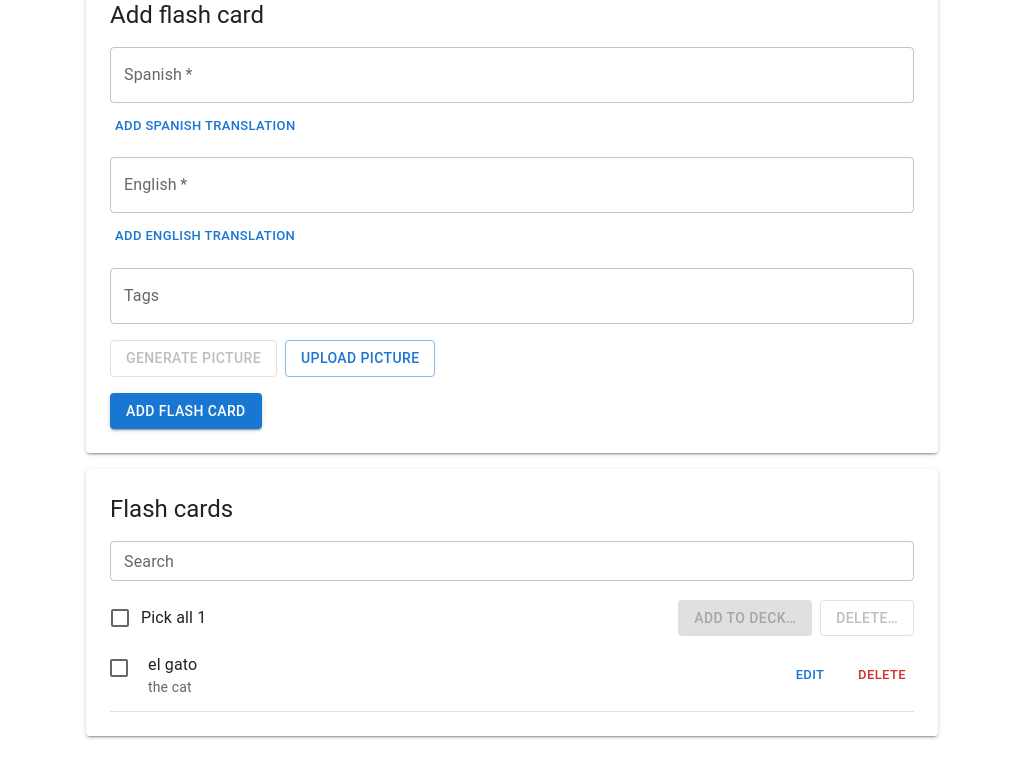
Test: deleting a card › says so when there are no cards left
(page scrolled)
Expected: the text "el gato" is shown, [148,655,197,674]
Click the button named "Delete \"el gato\"": (882, 675) [850,660,914,690]
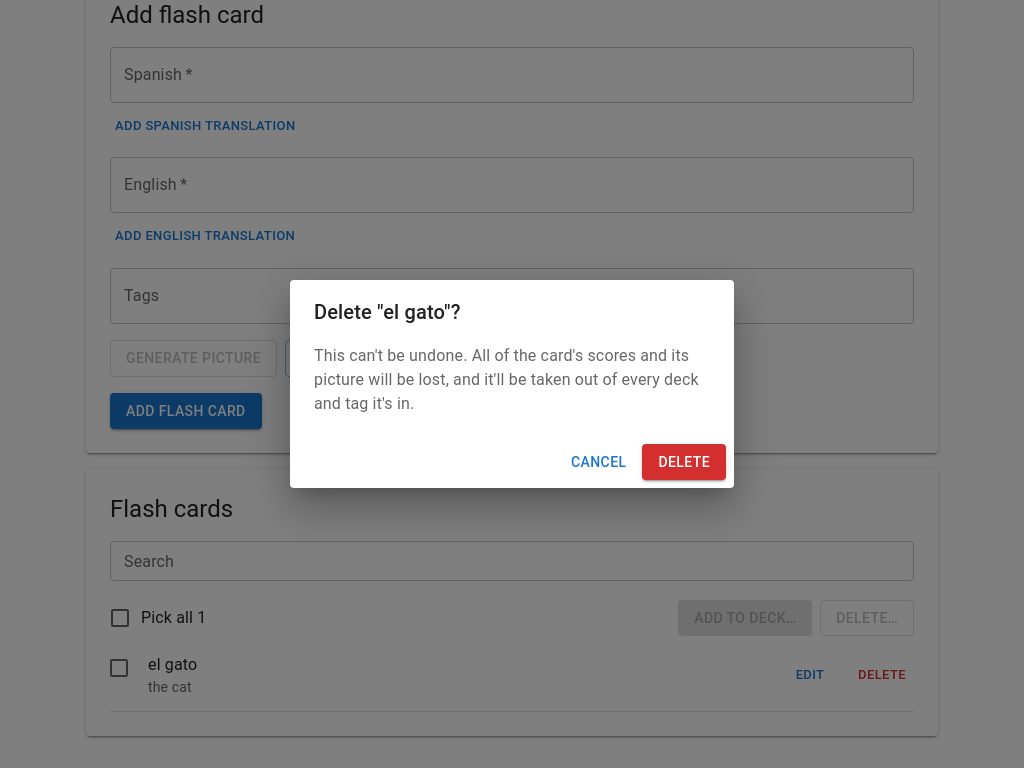
Click the button "Delete": (684, 462) [642,444,726,480]
(page scrolled)
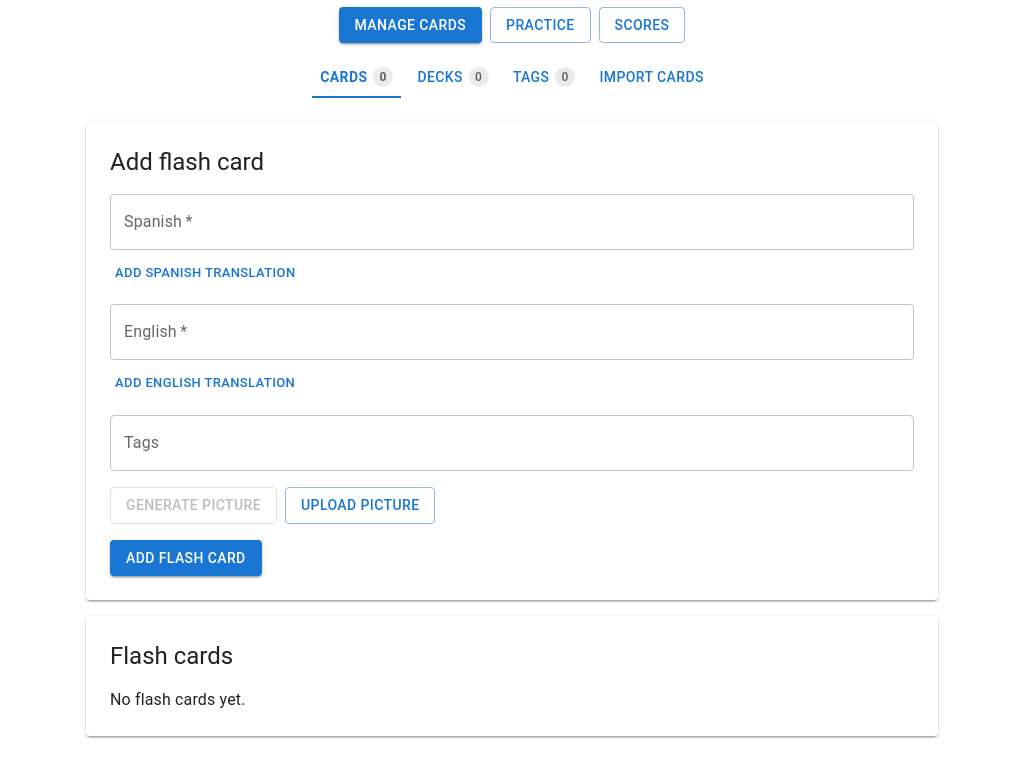
Expected: the text "No flash cards yet." is shown, [110,690,246,709]
